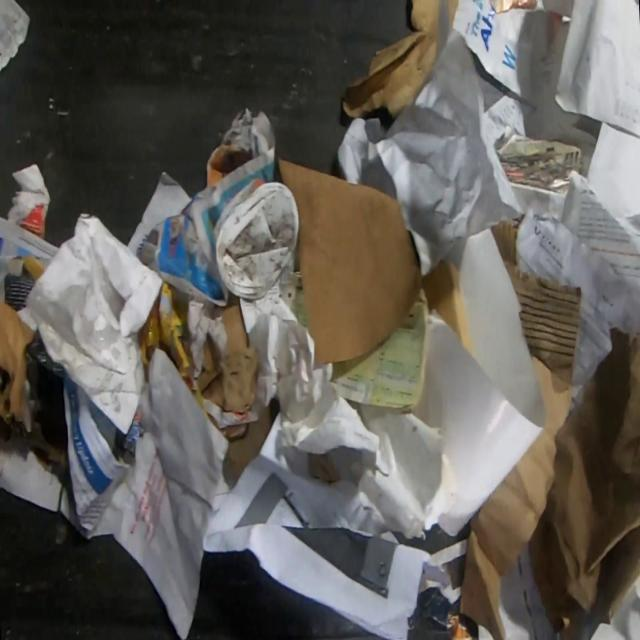cardboard: (458, 218, 582, 640), (275, 153, 424, 367), (0, 257, 73, 498), (340, 0, 440, 121), (137, 280, 209, 417), (196, 293, 260, 415), (495, 132, 583, 194), (422, 256, 475, 358), (218, 400, 275, 490), (5, 162, 52, 240), (205, 143, 254, 188), (306, 451, 339, 483), (447, 0, 458, 31)
rigid_plastic: (213, 180, 300, 303)
